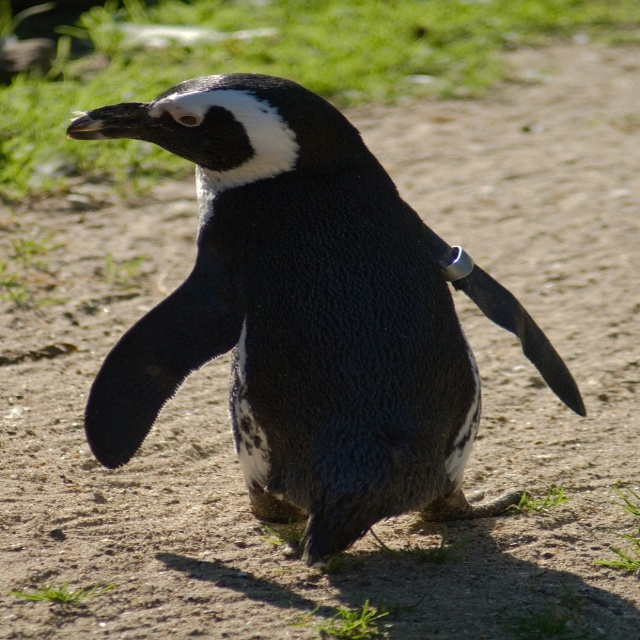Penguin: (61, 64, 609, 580)
